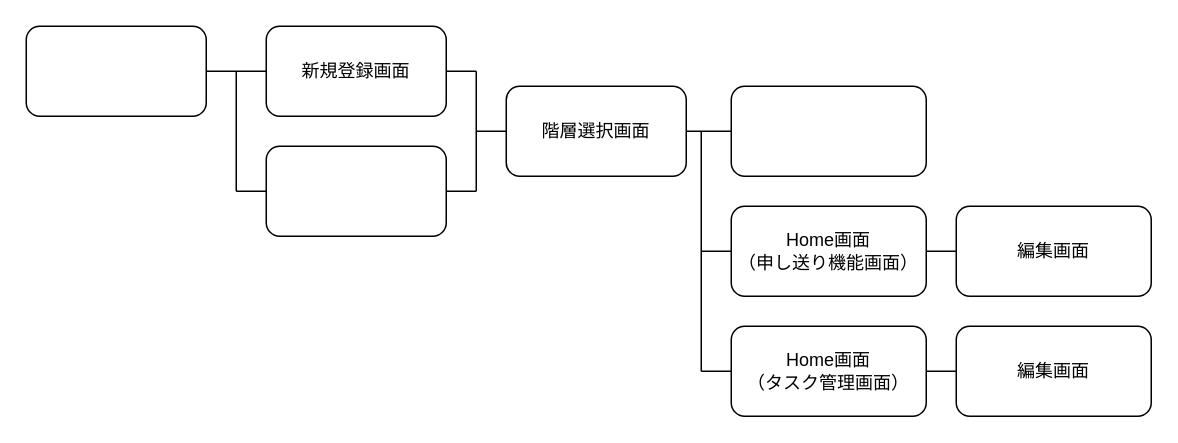
The diagram is 1178 pixels wide and 443 high, and some of its shapes have lost their labels. The centre of each missing label's shape, as x and y in pixels:
Home画面 （日付機能画面）: (x=828, y=130)
トップページ: (x=115, y=70)
ログイン画面: (x=355, y=190)
